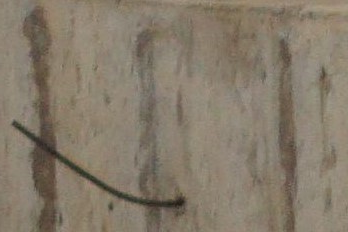Exposed reinforcement: (10, 119, 183, 208)
